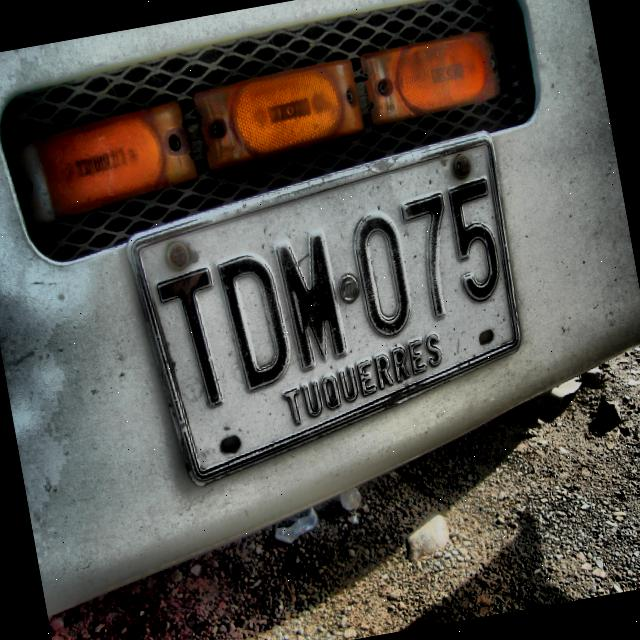plate: (126, 130, 521, 488)
